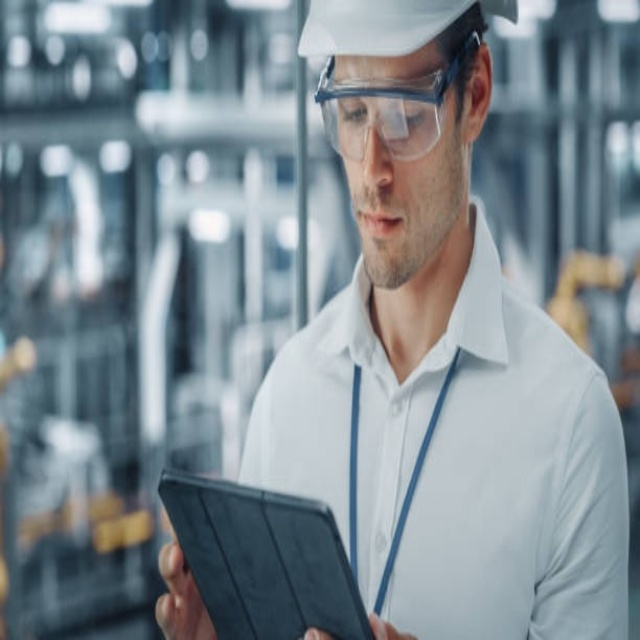Gafas: (315, 30, 478, 163)
Sin_guantes: (154, 533, 217, 640)
Sin_mascara: (348, 186, 411, 270)
